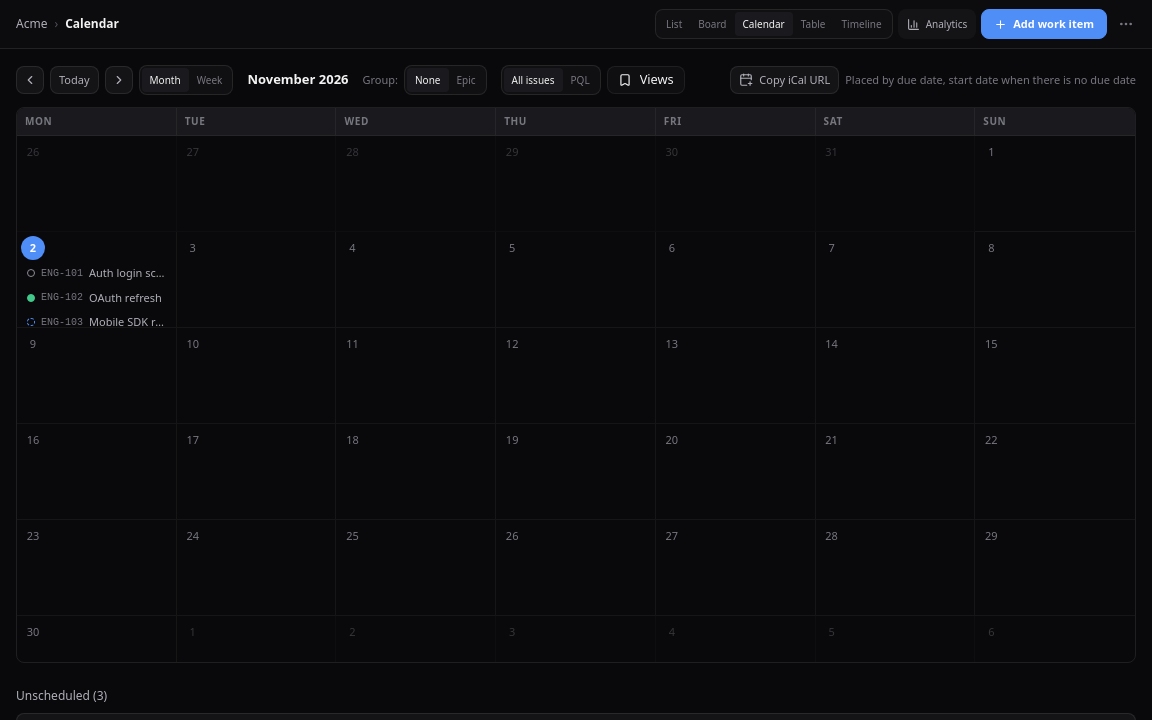
Calendar group by epic — week view › groups the week grid into swimlanes with the same semantics
The image size is (1152, 720).
Expected: the button titled "ENG-101: Auth login screen" is shown, [21,262,172,284]
Click the tab "Week" at (209, 80), box [189,68,230,92]
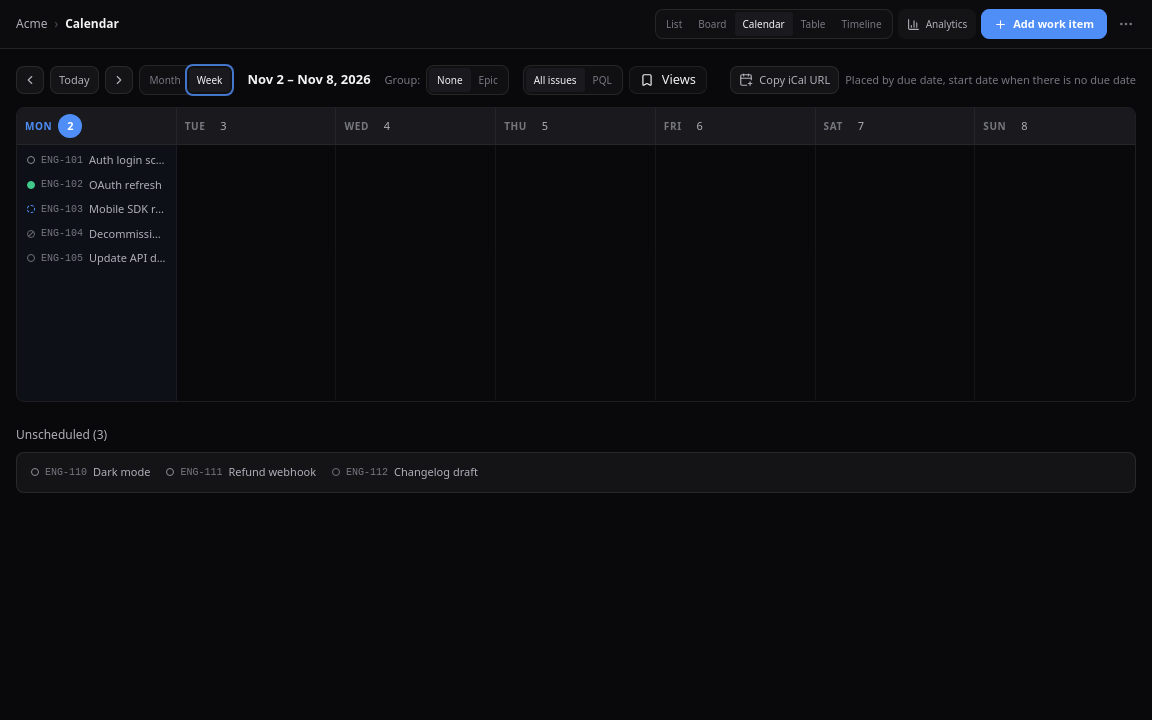
Expected: the button titled "ENG-101: Auth login screen" is shown, [21,149,172,172]
Click the tab "Epic" at (488, 80), box [471,68,506,92]
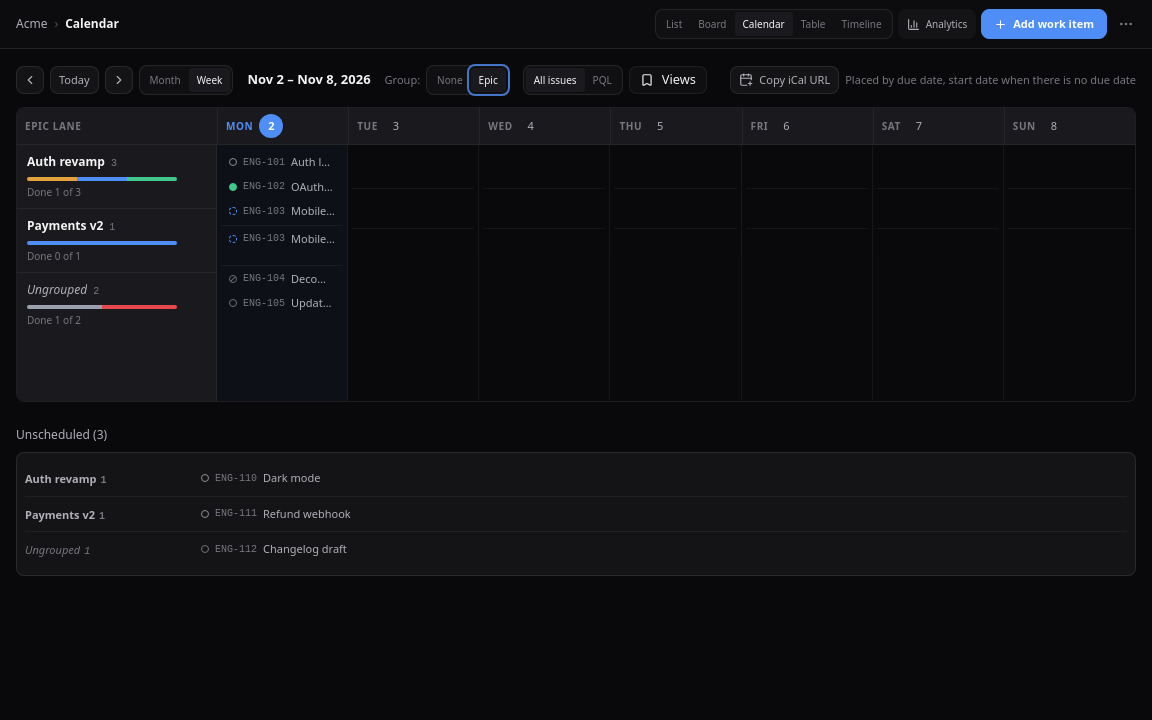
Result: the number of buttons titled "ENG-103: Mobile SDK release" is 2 at [223,200,341,222]; [223,228,341,250]
